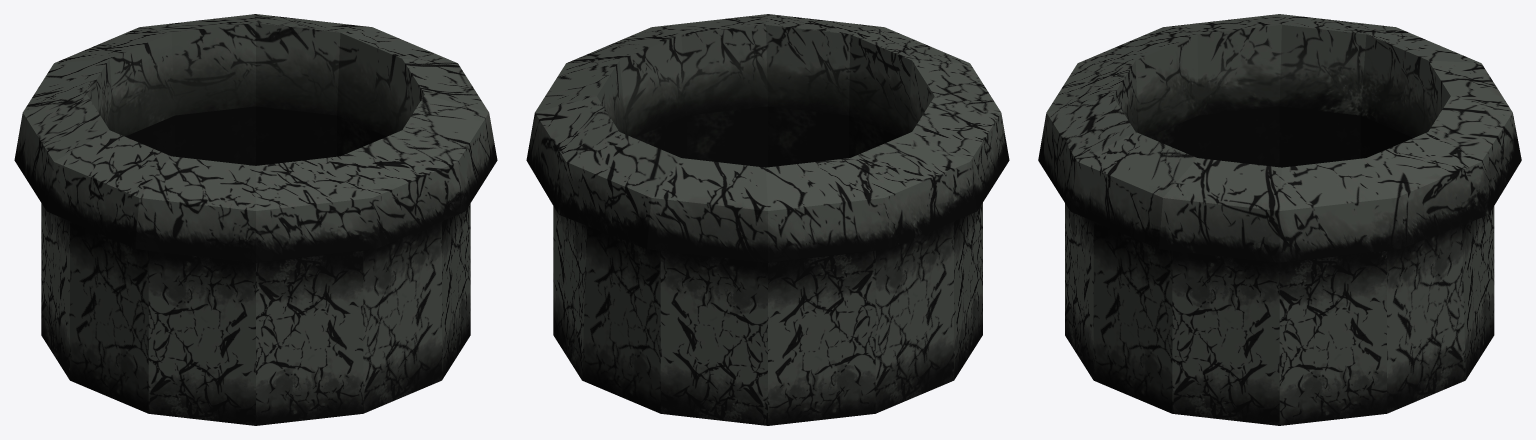
File: Well.FBX
The picture shows the model from 3 angles, left to right: view 1: azimuth 30°, elevation 25°; view 2: azimuth 150°, elevation 25°; view 3: azimuth 270°, elevation 25°; orthographic projection.
Parts seen in each view (by area): view 1: Well; view 2: Well; view 3: Well.
Boxes of the visible parts, x1,y1,x2,y2 form: Well: [14, 14, 497, 425]; Well: [526, 14, 1009, 425]; Well: [1038, 14, 1521, 425].
Size of the model in its own units: 13.19 by 7.22 by 13.21.
